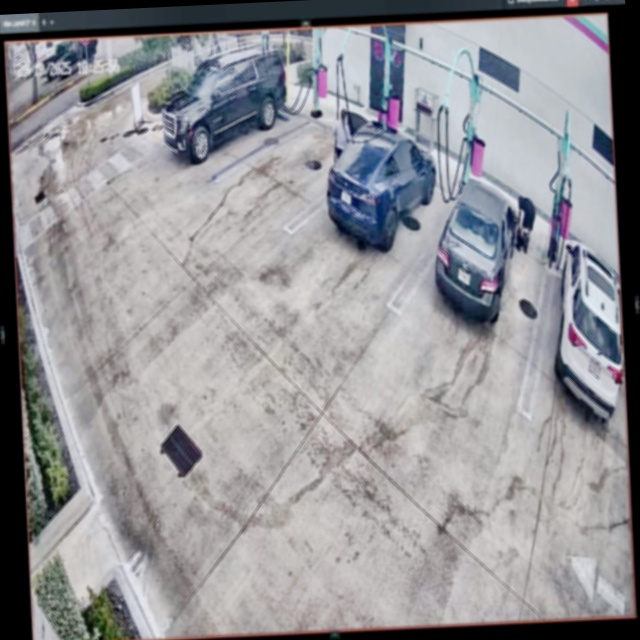Car: (158, 41, 290, 165), (323, 110, 439, 246), (433, 179, 522, 320)
